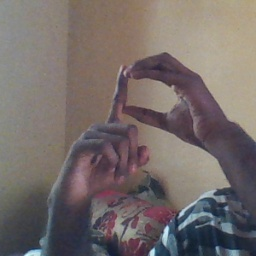P: (77, 48, 213, 185)
